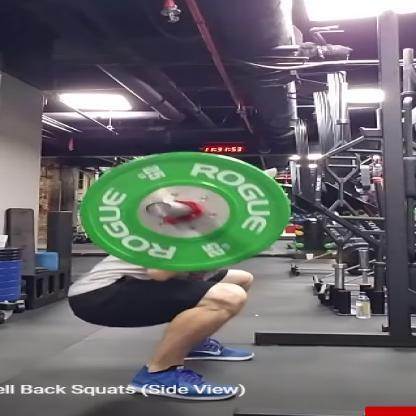barbell: (80, 151, 291, 272)
